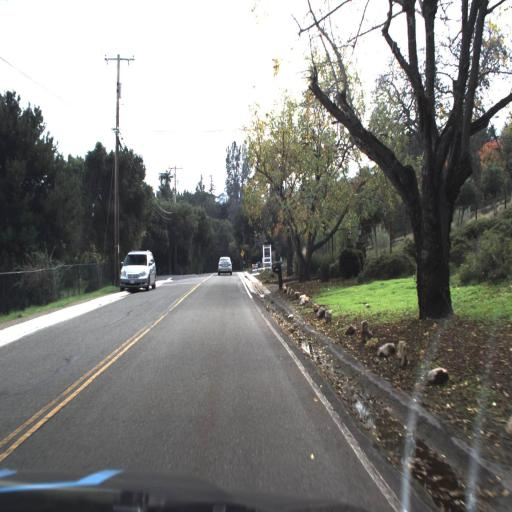car: (114, 239, 163, 297), (214, 252, 235, 280)
